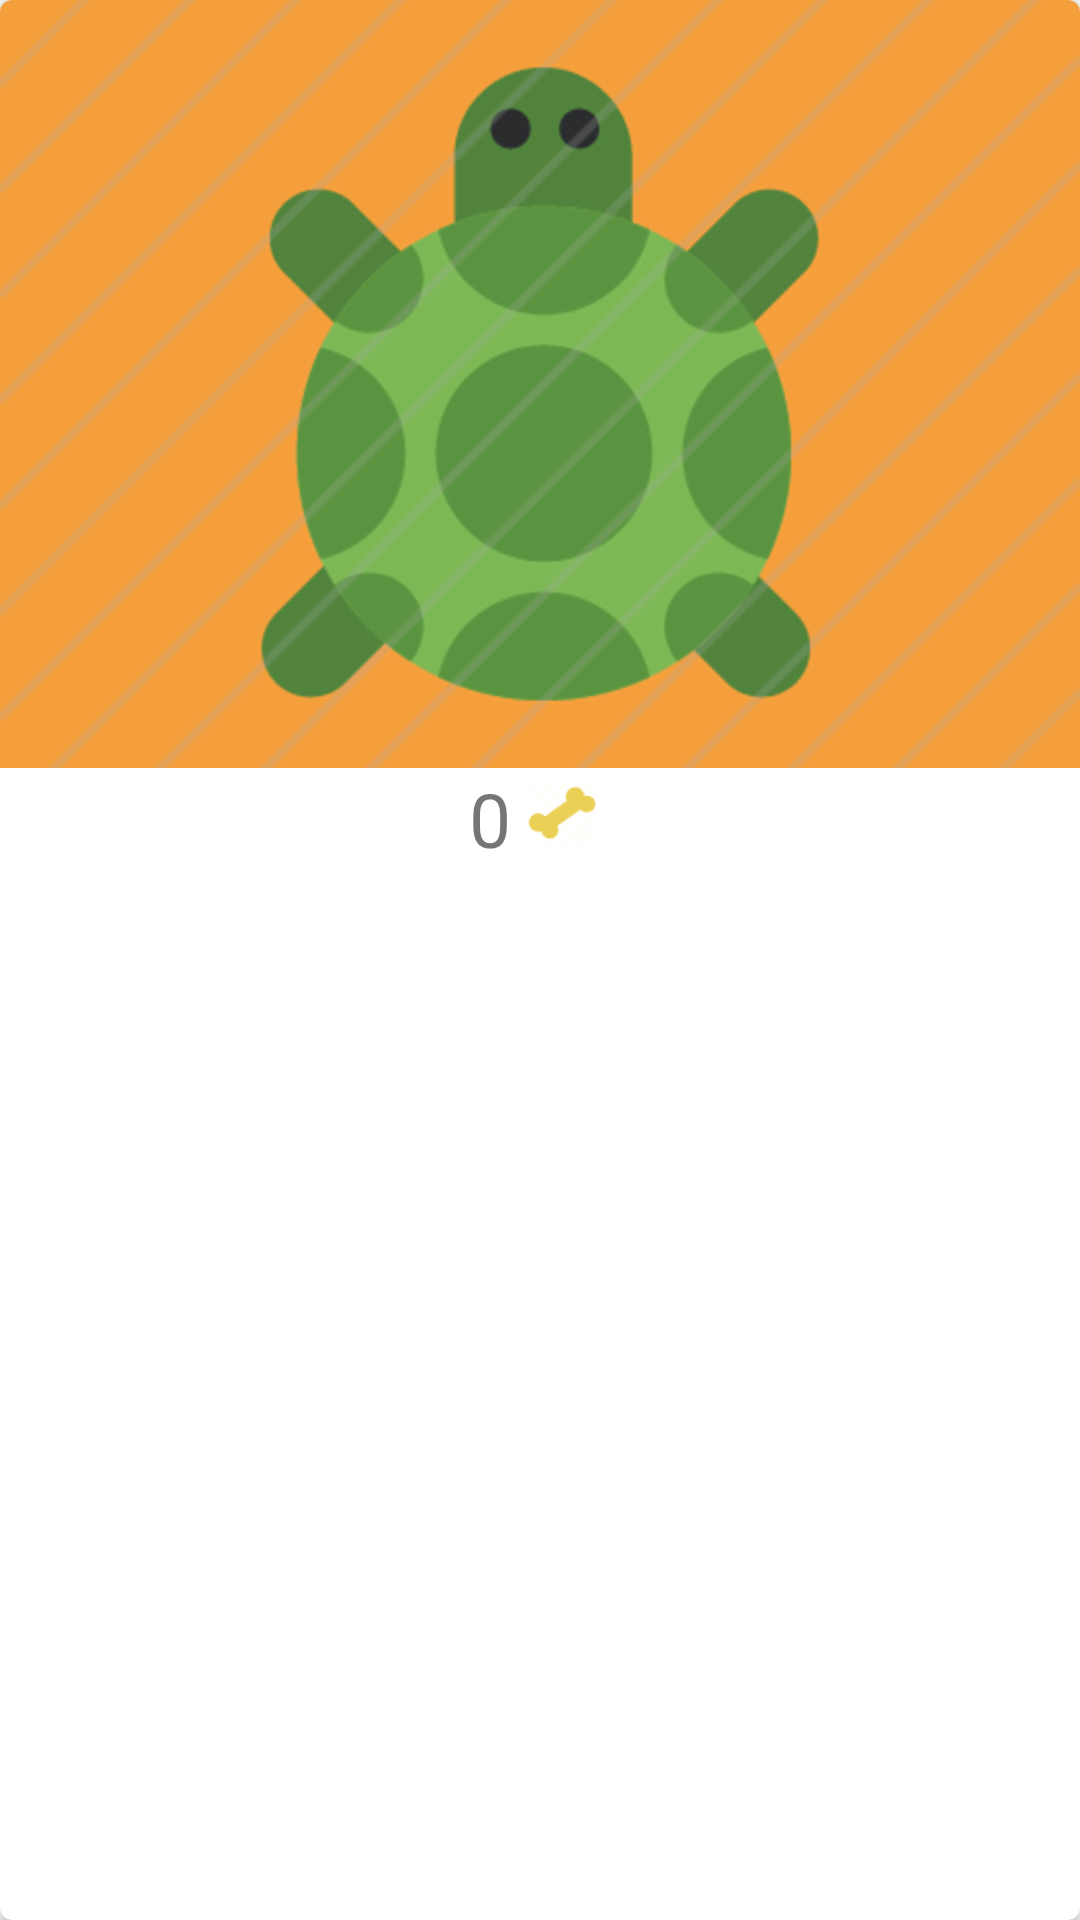

Icon bounding boxes for this 1080 × 1920 phone screenshot, format (x1, y1, x2, y2):
hueso amarillo: (528, 786, 596, 839)
